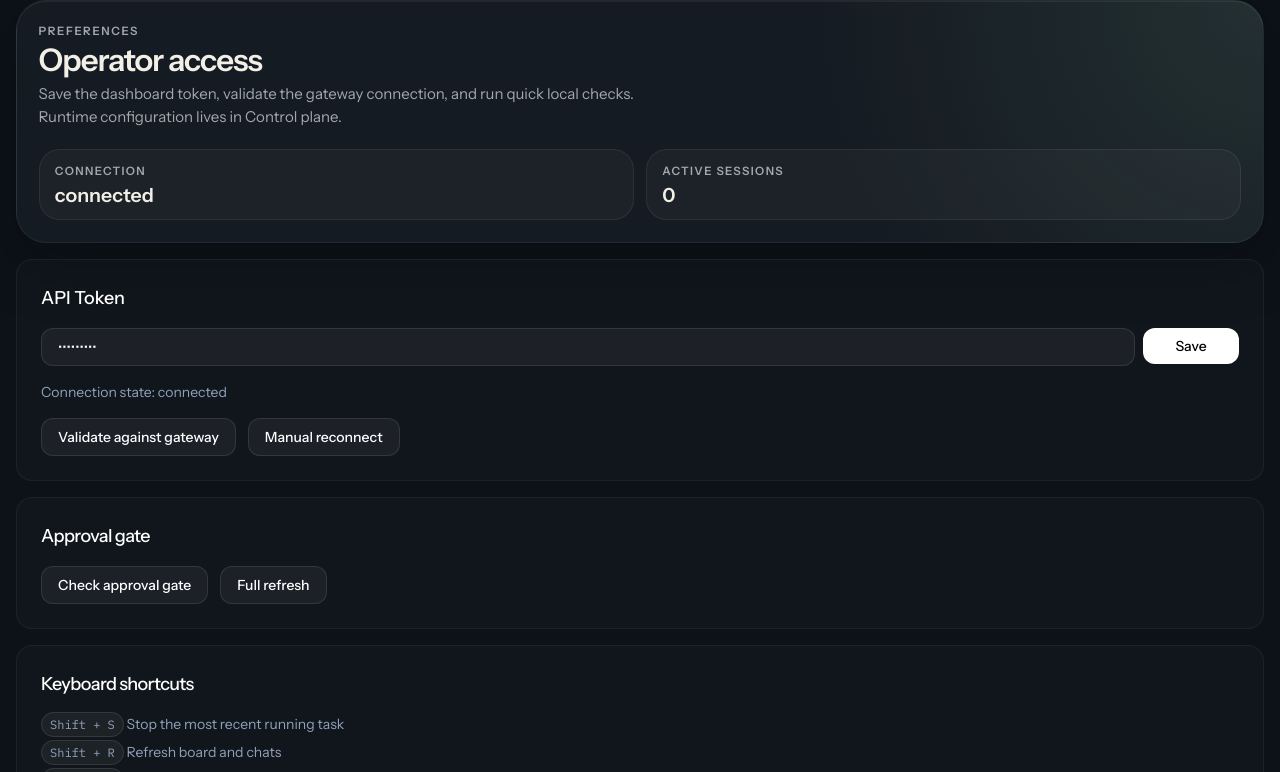
Test: SettingsPage › validates the gateway token through the query-backed status check
Expected: the heading "Operator access" is shown, [39,42,262,80]
Click the button "Validate against gateway" at (138, 437), box [41,418,236,456]
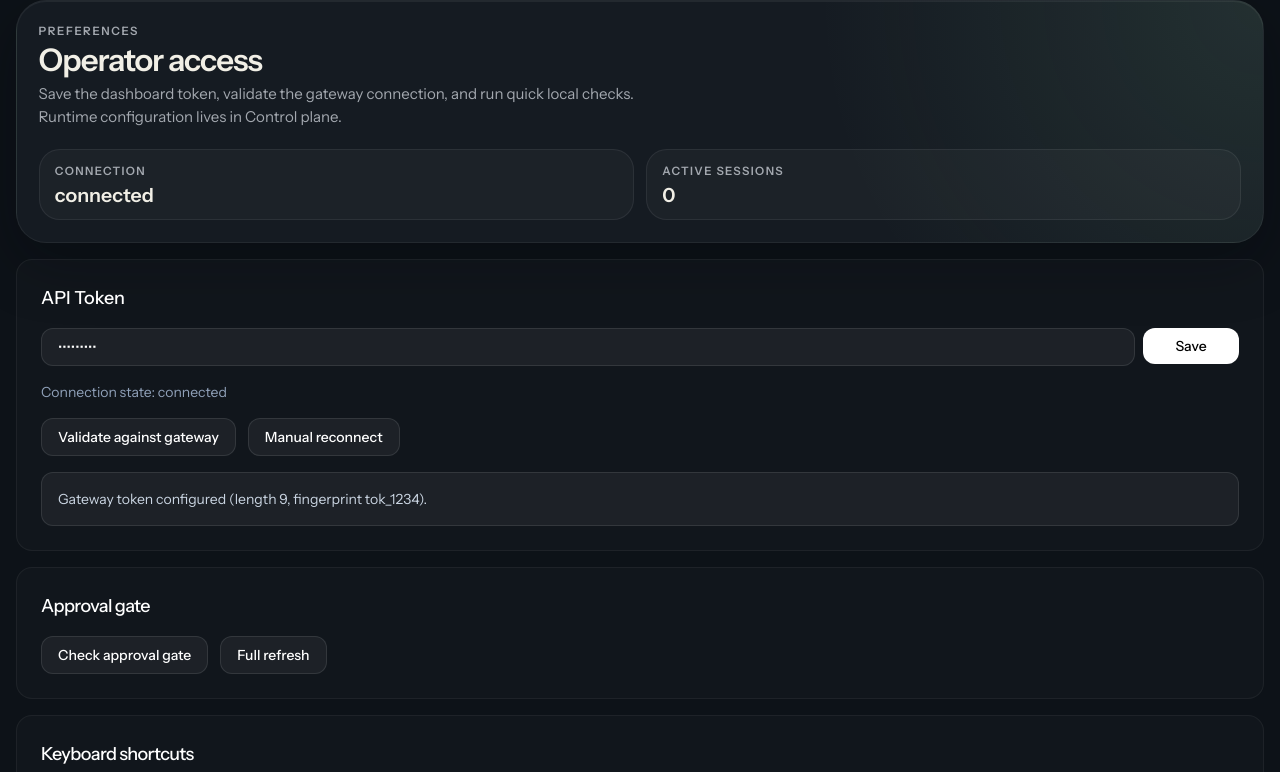
Result: the text "Gateway token configured (length 9, fingerprint tok_1234)." is shown at [41,472,1239,526]
